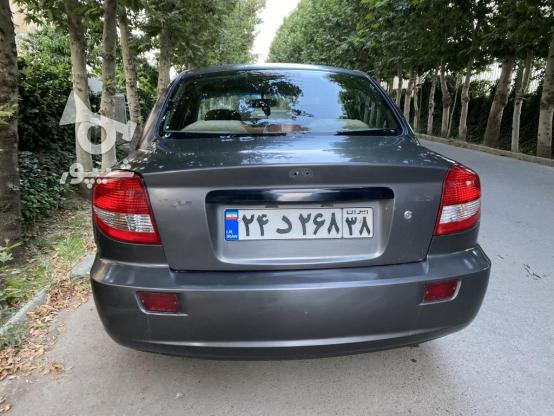car: (224, 207, 375, 239)
